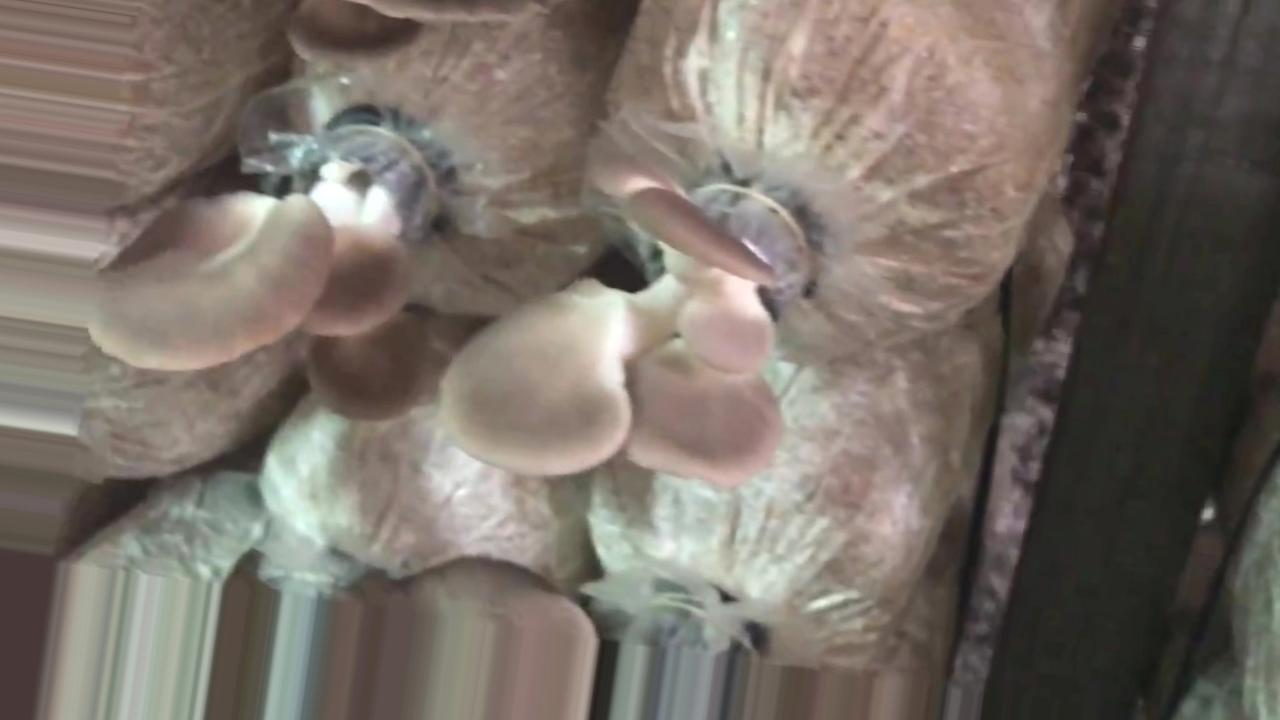nam: (439, 171, 813, 493), (92, 118, 438, 430)
